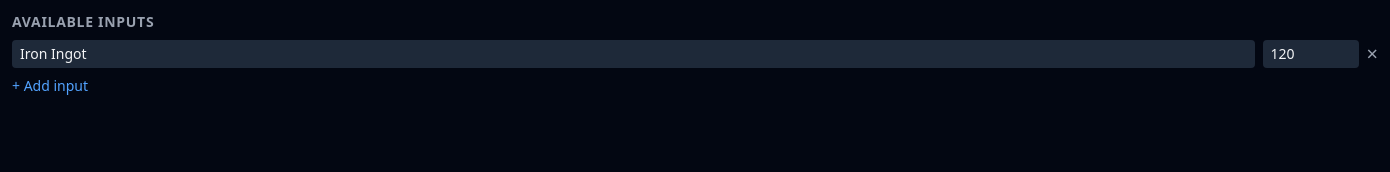
Test: InputsPanel › shows matching items in combobox dropdown when typing
Step 1. Replace the text in the field named "Input item" with "ingot" → (633, 54), box [12,40,1254,68]
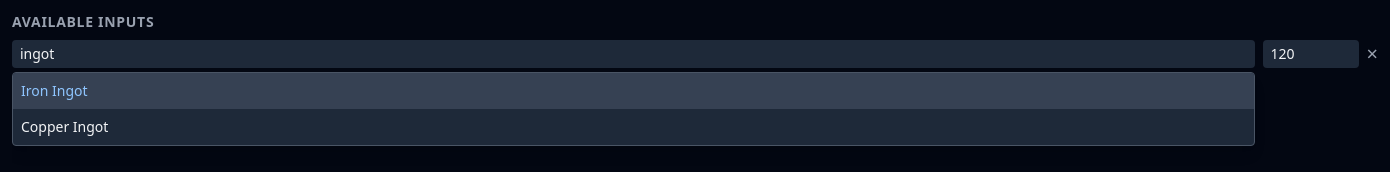
Expected: the list item "Iron Ingot" is shown, [13,73,1254,109]
Expected: the list item "Copper Ingot" is shown, [21,117,108,136]
